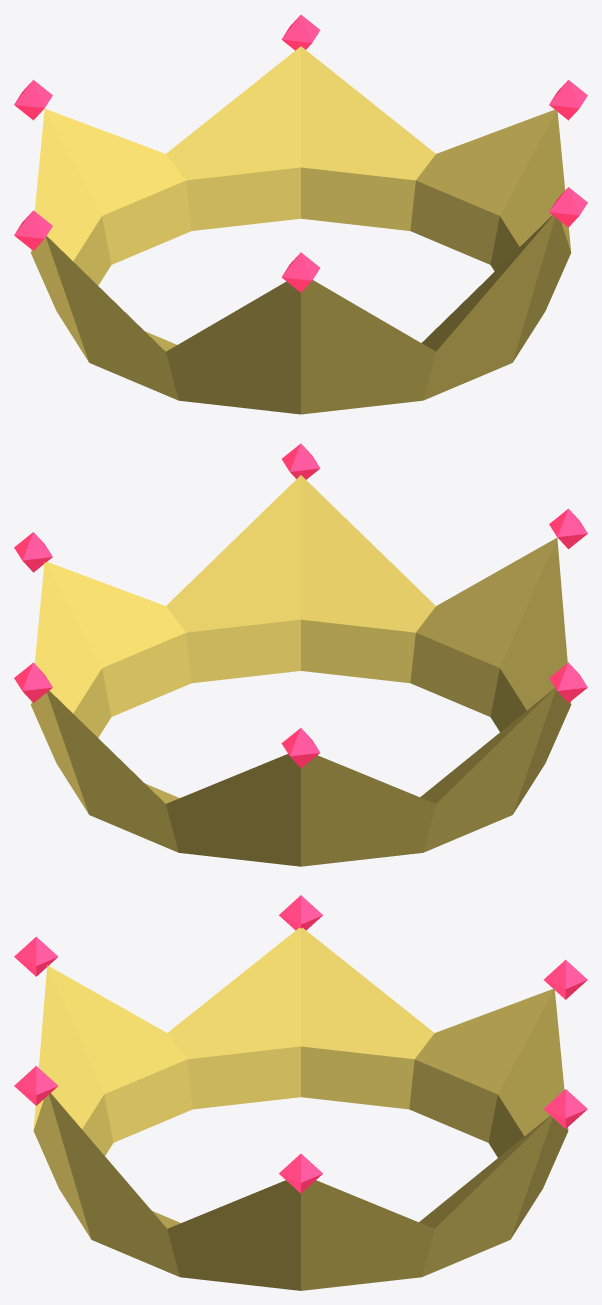
File: crown.glb
3 renders of one model, top to bottom at view 1: azimuth 30°, elevation 25°; view 2: azimuth 150°, elevation 25°; view 3: azimuth 270°, elevation 25°, orthographic.
Parts seen in each view (by area): view 1: Accessory_Crown; view 2: Accessory_Crown; view 3: Accessory_Crown.
Boxes of the visible parts, x1,y1,x2,y2 form: Accessory_Crown: (14,15,587,414); Accessory_Crown: (14,443,587,866); Accessory_Crown: (14,895,587,1290).
Bounding box in the file's own units: 1.03 × 0.325 × 0.9014.
